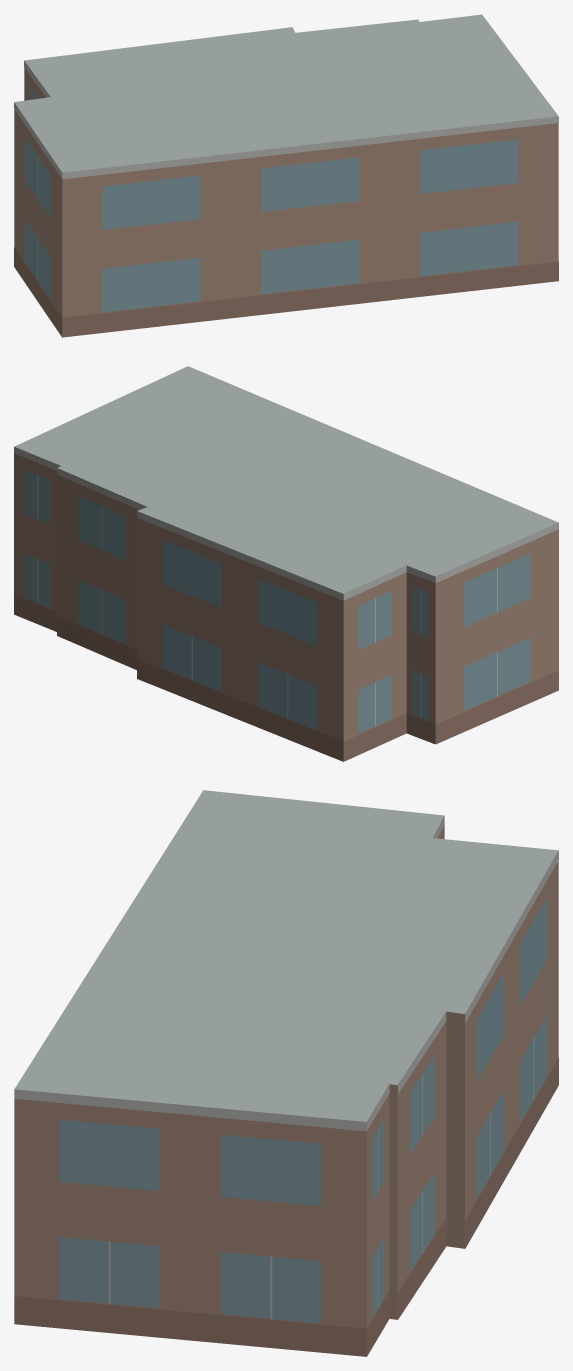
Rendered from survey-upis-32974507.glb.
3 views of the same model, one above another, from view 1: azimuth 30°, elevation 25°; view 2: azimuth 150°, elevation 25°; view 3: azimuth 270°, elevation 25° (orthographic). The views are drawn at different scales.
Visible parts, largest first — view 1: survey-upis-32974507.tmp; view 2: survey-upis-32974507.tmp; view 3: survey-upis-32974507.tmp.
Part boxes in pixels (x1,y1,x2,y2): survey-upis-32974507.tmp: (14, 14, 558, 337); survey-upis-32974507.tmp: (14, 366, 558, 761); survey-upis-32974507.tmp: (14, 790, 558, 1356).
Bounding box in the file's own units: 18.51 × 6.1 × 12.84.
